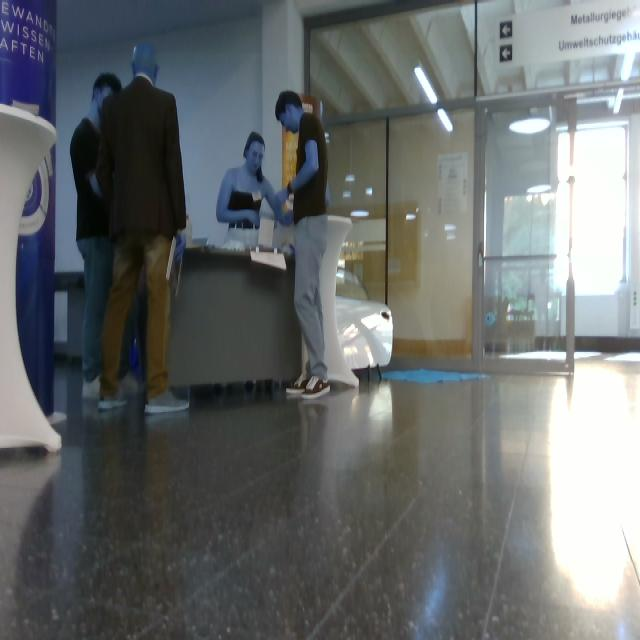desk: (172, 246, 301, 397)
light bulb: (133, 44, 159, 85), (415, 66, 437, 104), (439, 109, 453, 132)
person: (97, 46, 189, 412), (276, 92, 330, 397), (217, 133, 293, 229)
table: (1, 106, 61, 452)
tiled floor: (1, 357, 640, 640)
